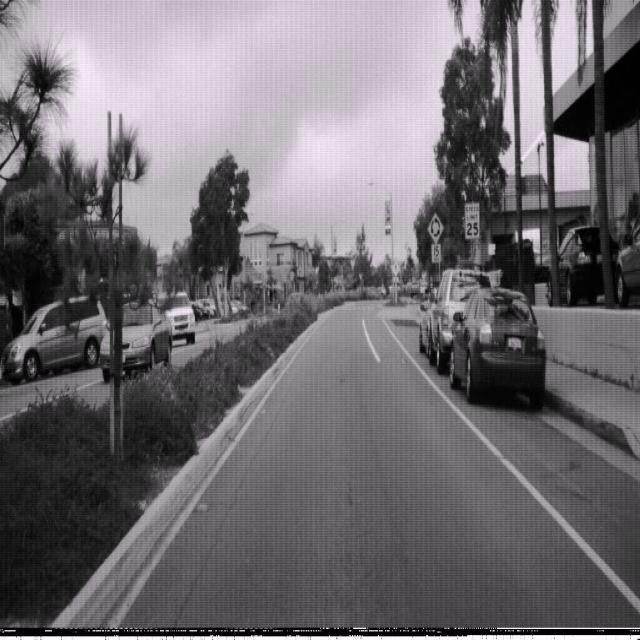speedLimit25: (464, 200, 480, 240)
